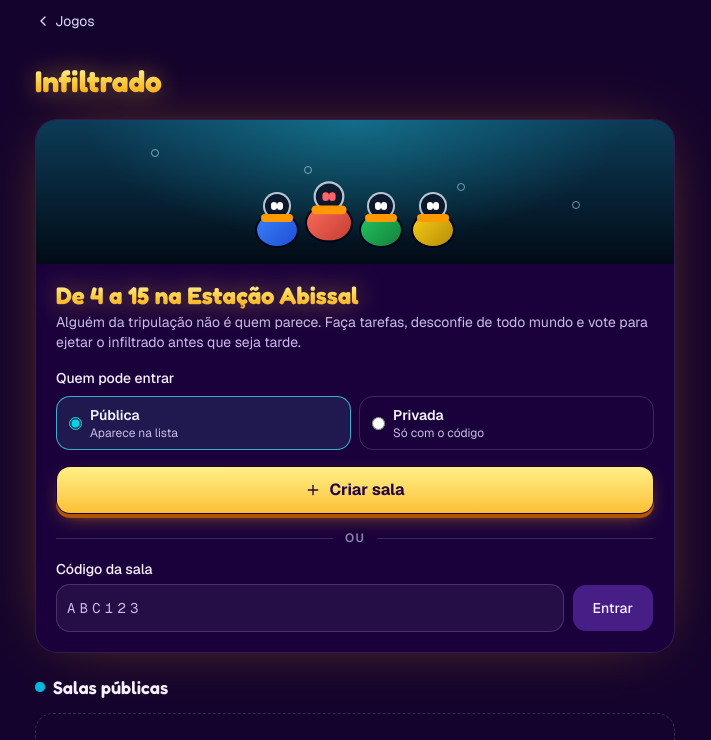
Scenario: InfiltradoHome › validates the room code
Type "ab" into the field labelled "Código da sala".
click(310, 608); type("ab")  # box [56,584,564,632]
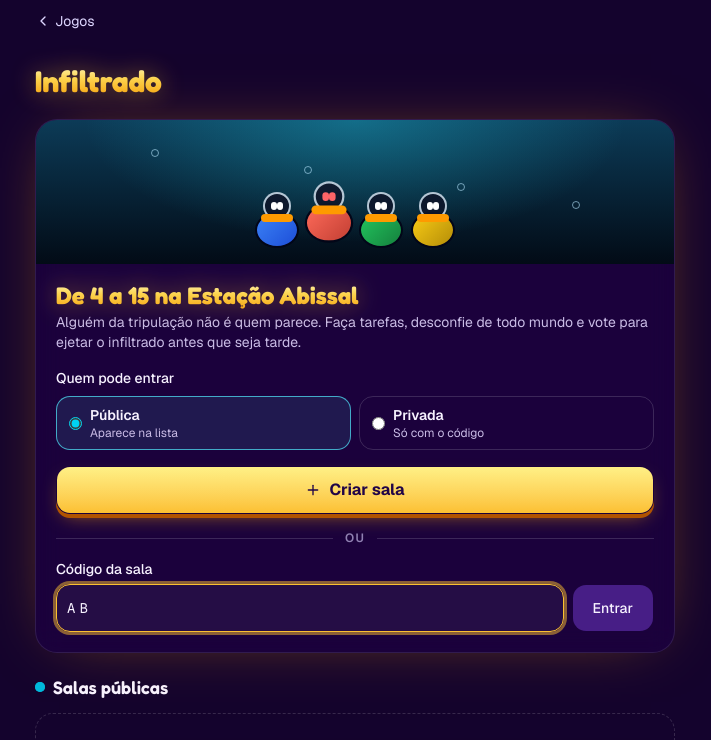
Click the button "Entrar".
click(613, 608)  # box [572,584,654,632]
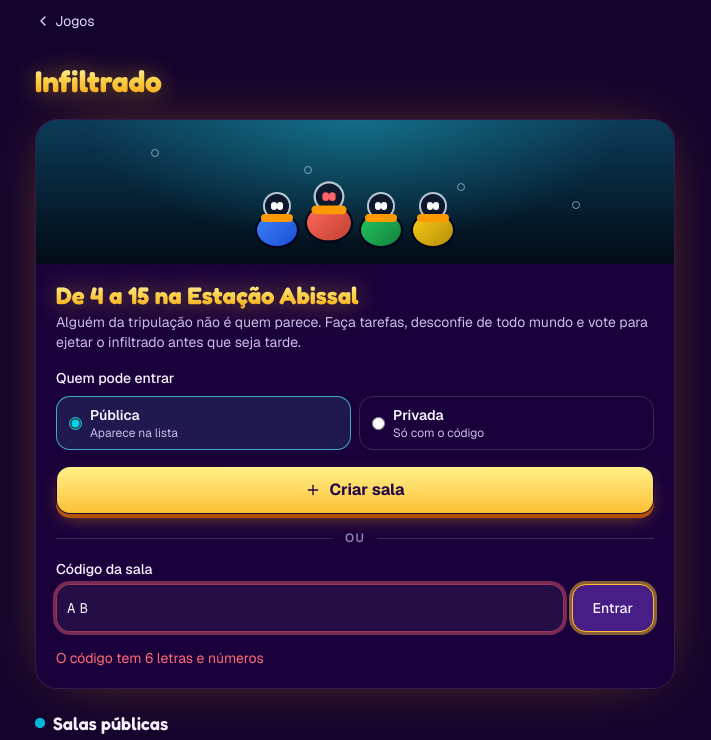
Now the message shows "6 letras", box [56,649,264,667]
